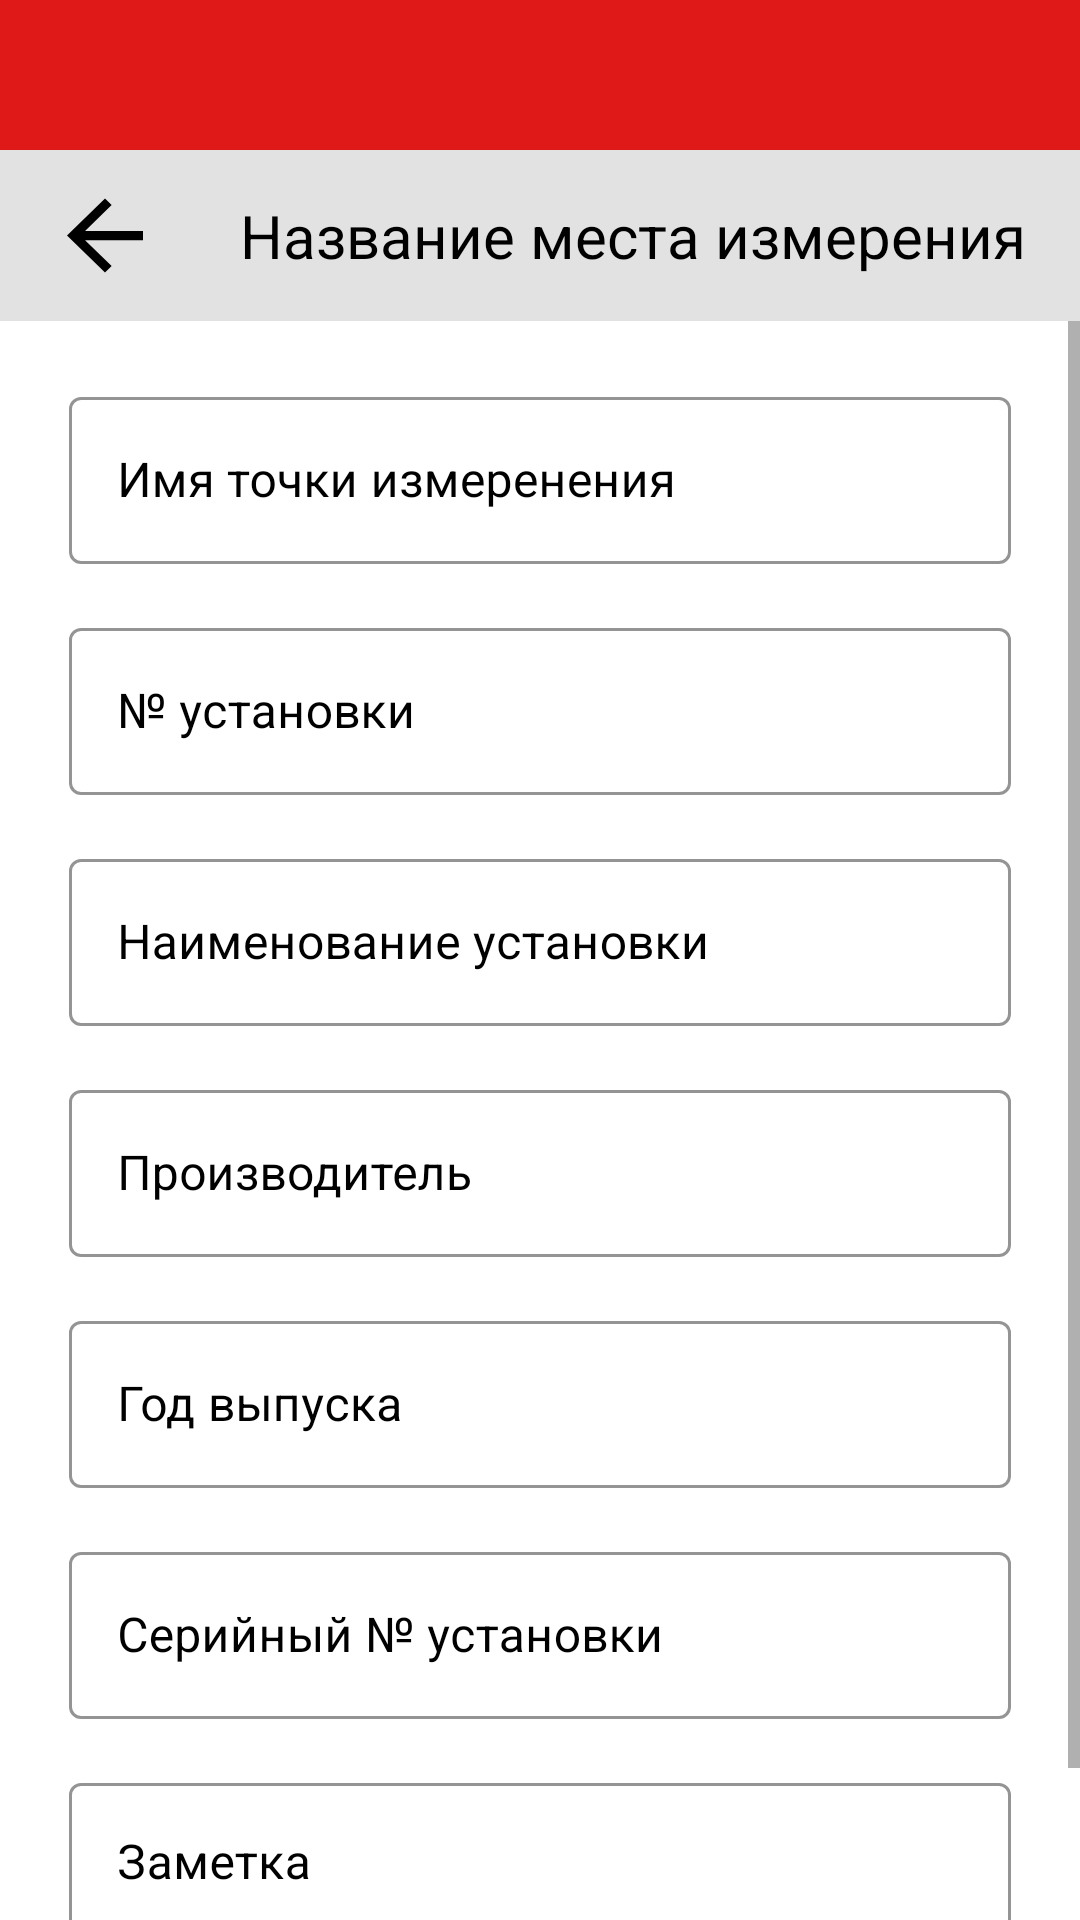

Icons on this 1080 × 1920 Android screen, each with the point to tap as [x,y]:
back to clientData: [105,235]
